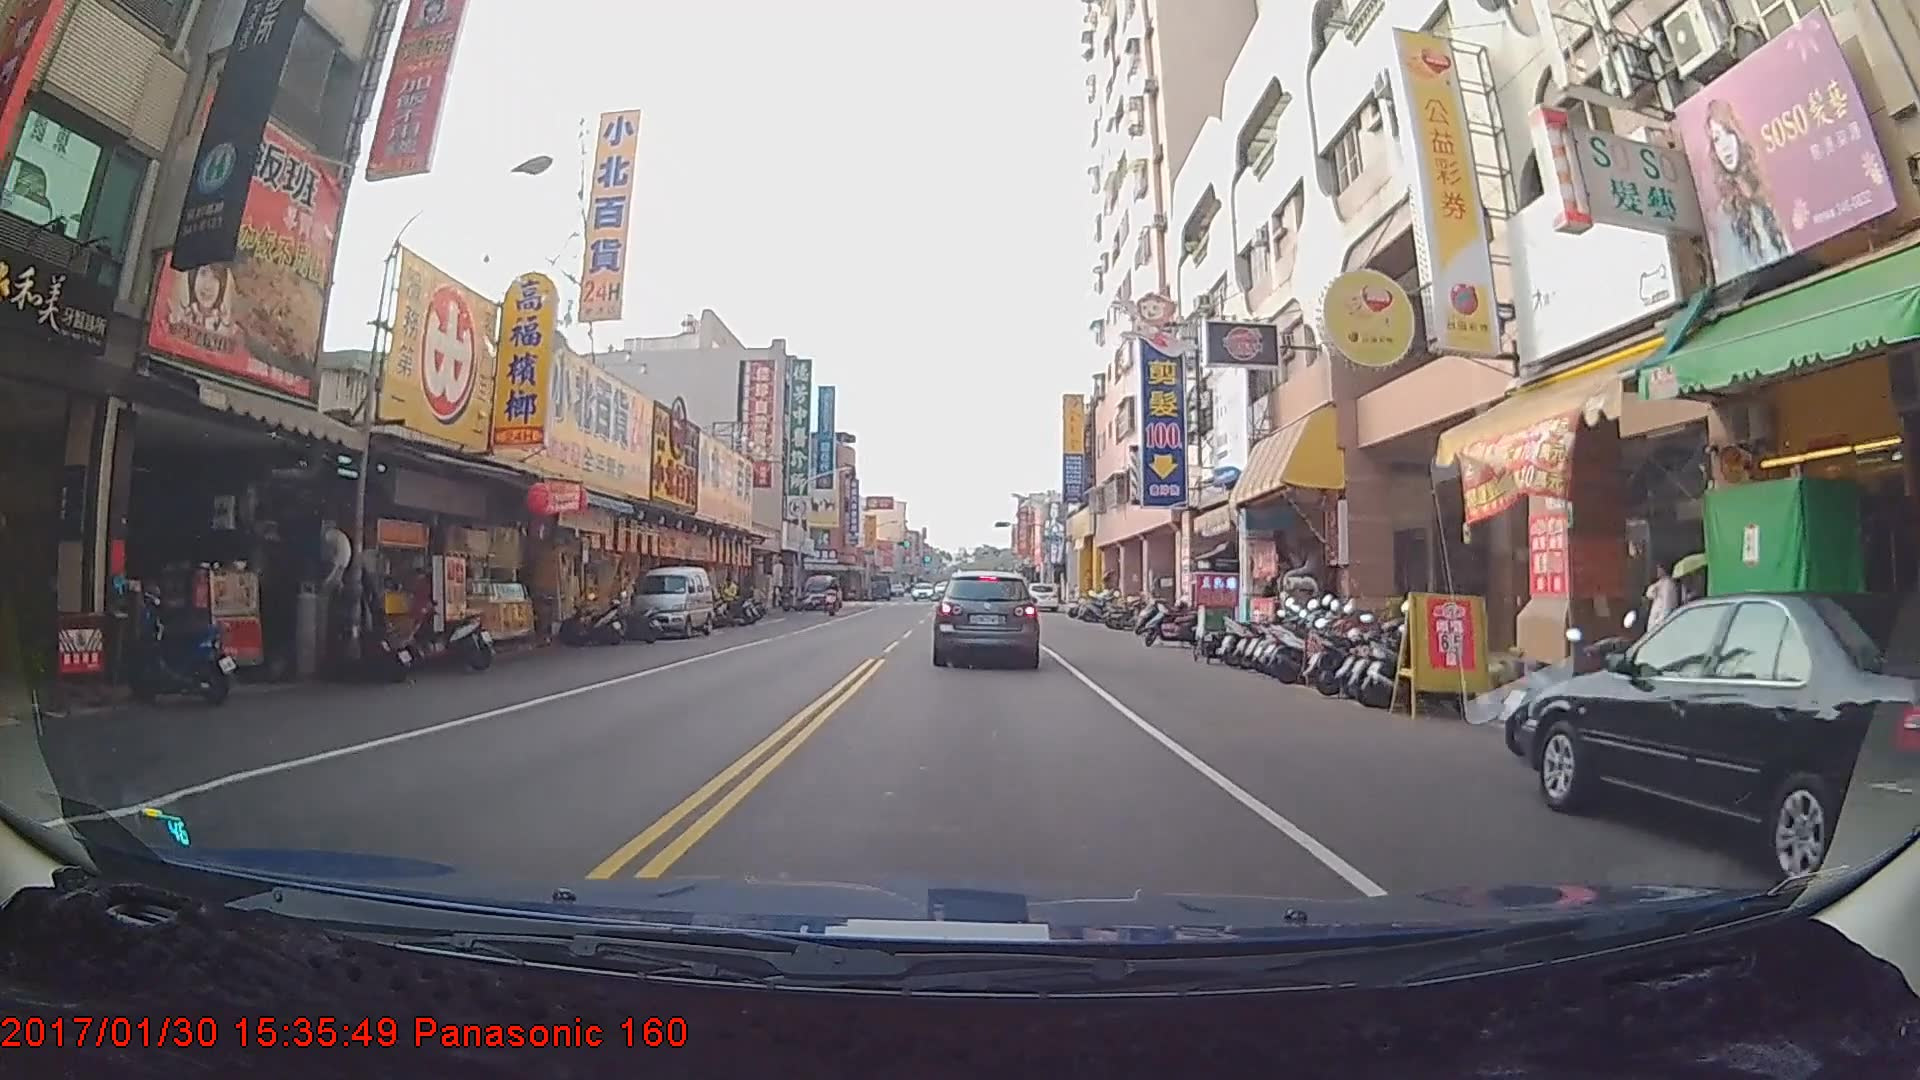pedestrian: (717, 572, 739, 624)
rider: (819, 572, 843, 616)
vehicle: (1523, 589, 1920, 896), (932, 569, 1041, 667), (626, 565, 713, 638), (802, 572, 838, 608), (1026, 583, 1059, 613)
